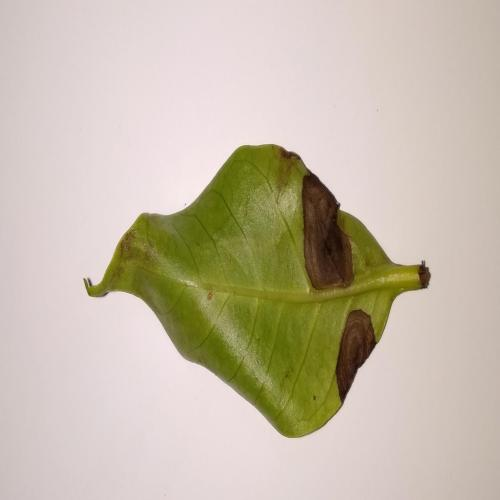miner: (280, 147, 354, 290)
